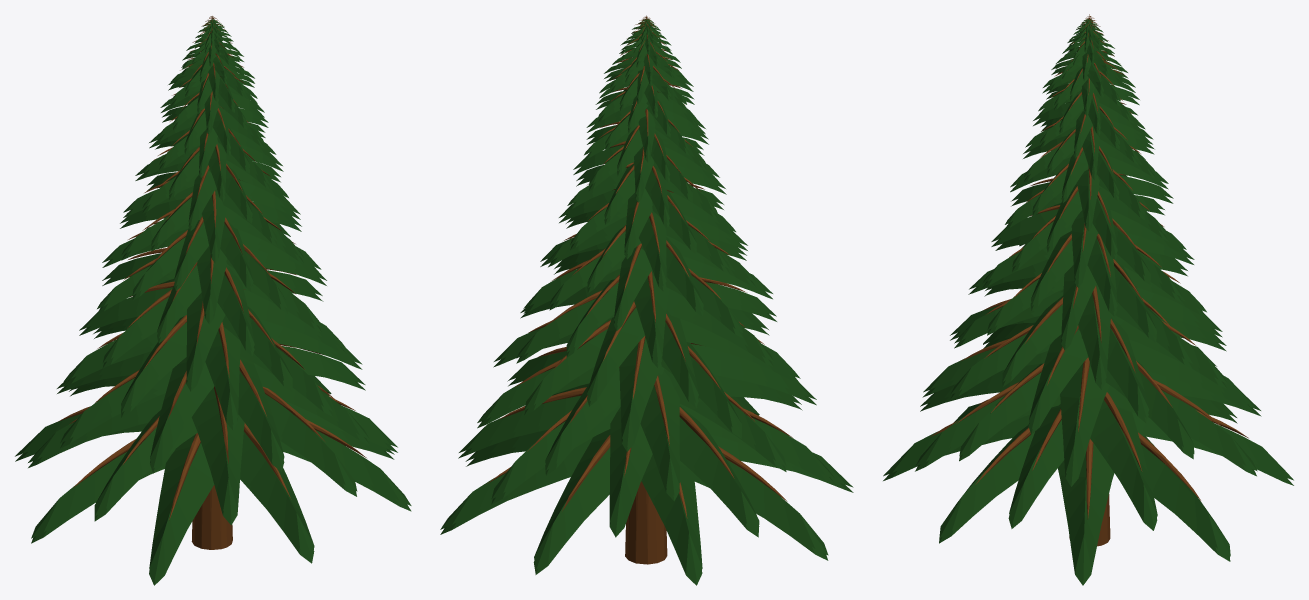
File: Tree_Fir_Test.fbx
3 renders of one model, left to right at view 1: azimuth 30°, elevation 25°; view 2: azimuth 150°, elevation 25°; view 3: azimuth 270°, elevation 25°, orthographic. The views are drawn at different scales.
Visible parts, largest first — view 1: Leaves.001, Leaves.002, Twig.001, Trunk; view 2: Leaves.001, Leaves.002, Twig.001, Trunk; view 3: Leaves.001, Leaves.002, Twig.001.
Part boxes in pixels (bbox=[...]): Leaves.001: bbox=[15, 19, 411, 580]; Leaves.002: bbox=[15, 26, 411, 585]; Twig.001: bbox=[57, 16, 366, 520]; Trunk: bbox=[191, 16, 232, 549]; Leaves.001: bbox=[440, 18, 853, 580]; Leaves.002: bbox=[440, 26, 853, 585]; Twig.001: bbox=[487, 16, 792, 518]; Trunk: bbox=[625, 15, 667, 564]; Leaves.001: bbox=[883, 19, 1293, 580]; Leaves.002: bbox=[883, 27, 1293, 585]; Twig.001: bbox=[930, 16, 1248, 519].
Bounding box in the file's own units: 570 × 800 × 570.
